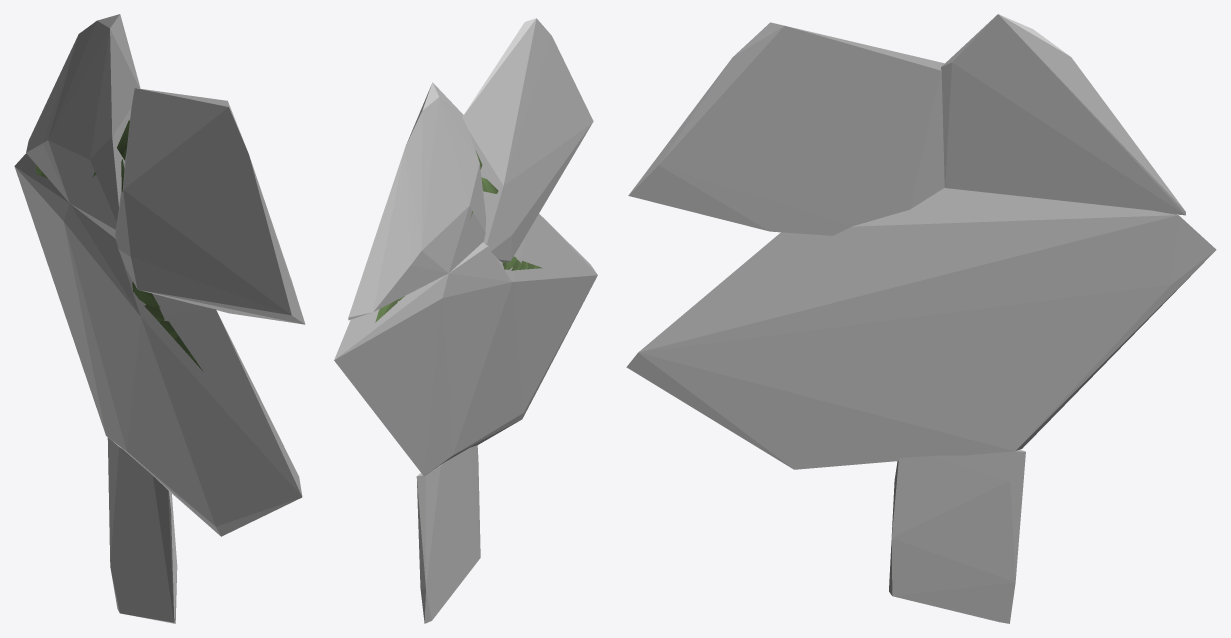
File: SM_Env_Leaves_Preset_01.fbx
The picture shows the model from 3 angles, left to right: view 1: azimuth 30°, elevation 25°; view 2: azimuth 150°, elevation 25°; view 3: azimuth 270°, elevation 25°; orthographic projection. The views are drawn at different scales.
Parts seen in each view (by area): view 1: SM_Env_Leaves_Preset_01_ConvexHulls, SM_Env_Leaves_Preset_01; view 2: SM_Env_Leaves_Preset_01_ConvexHulls, SM_Env_Leaves_Preset_01; view 3: SM_Env_Leaves_Preset_01_ConvexHulls.
Part boxes in pixels (x1,y1,x2,y2): SM_Env_Leaves_Preset_01_ConvexHulls: [14, 14, 305, 623]; SM_Env_Leaves_Preset_01: [36, 120, 203, 371]; SM_Env_Leaves_Preset_01_ConvexHulls: [334, 18, 597, 623]; SM_Env_Leaves_Preset_01: [375, 150, 542, 322]; SM_Env_Leaves_Preset_01_ConvexHulls: [626, 14, 1216, 623].
Bounding box in the file's own units: 21.21 × 243 × 277.
2 materials, 1 textured.
